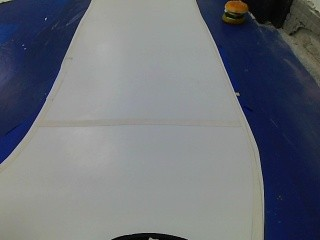burger: (219, 0, 260, 27)
